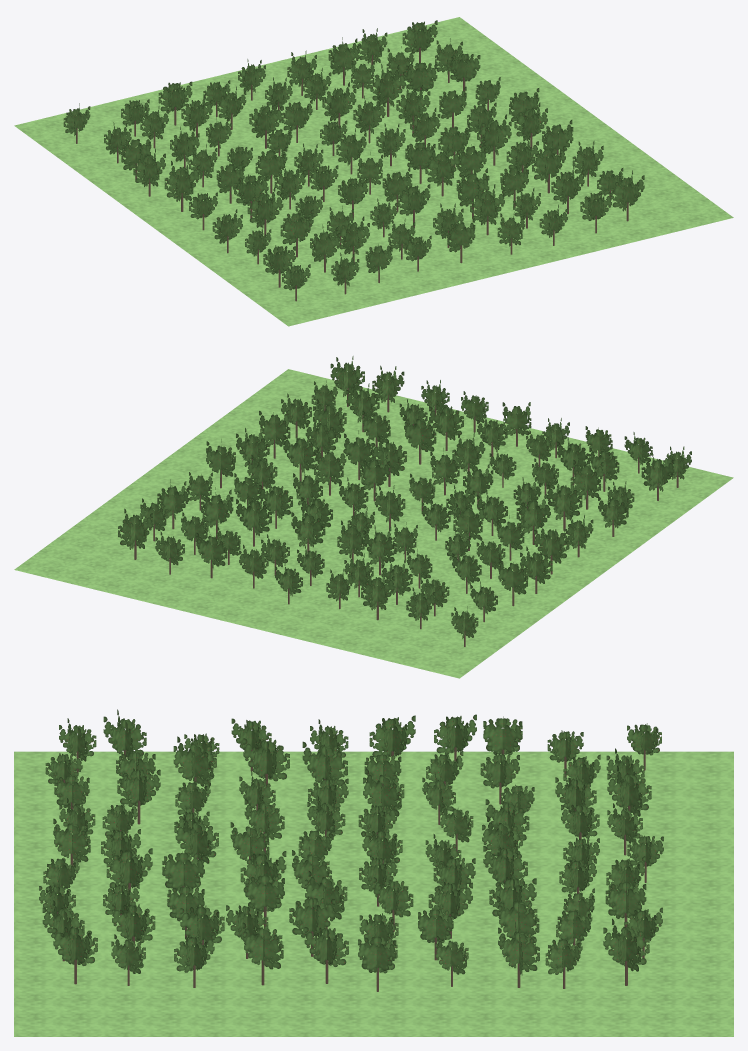
Rendered from orchard-south.glb.
The picture shows the model from 3 angles, top to bottom: view 1: azimuth 30°, elevation 25°; view 2: azimuth 150°, elevation 25°; view 3: azimuth 270°, elevation 25°; orthographic projection. The views are drawn at different scales.
Parts seen in each view (by area): view 1: orchard-south, orchard-south-trees; view 2: orchard-south, orchard-south-trees; view 3: orchard-south, orchard-south-trees.
Part boxes in pixels (x1=…): orchard-south: x1=14, y1=17, x2=733, y2=326; orchard-south-trees: x1=63, y1=20, x2=644, y2=301; orchard-south: x1=14, y1=369, x2=733, y2=678; orchard-south-trees: x1=118, y1=356, x2=691, y2=646; orchard-south: x1=14, y1=751, x2=733, y2=1036; orchard-south-trees: x1=39, y1=709, x2=663, y2=991.
Size of the model in its own units: 75 by 7.39 by 80.
Materials: 3 (2 with a texture image).
